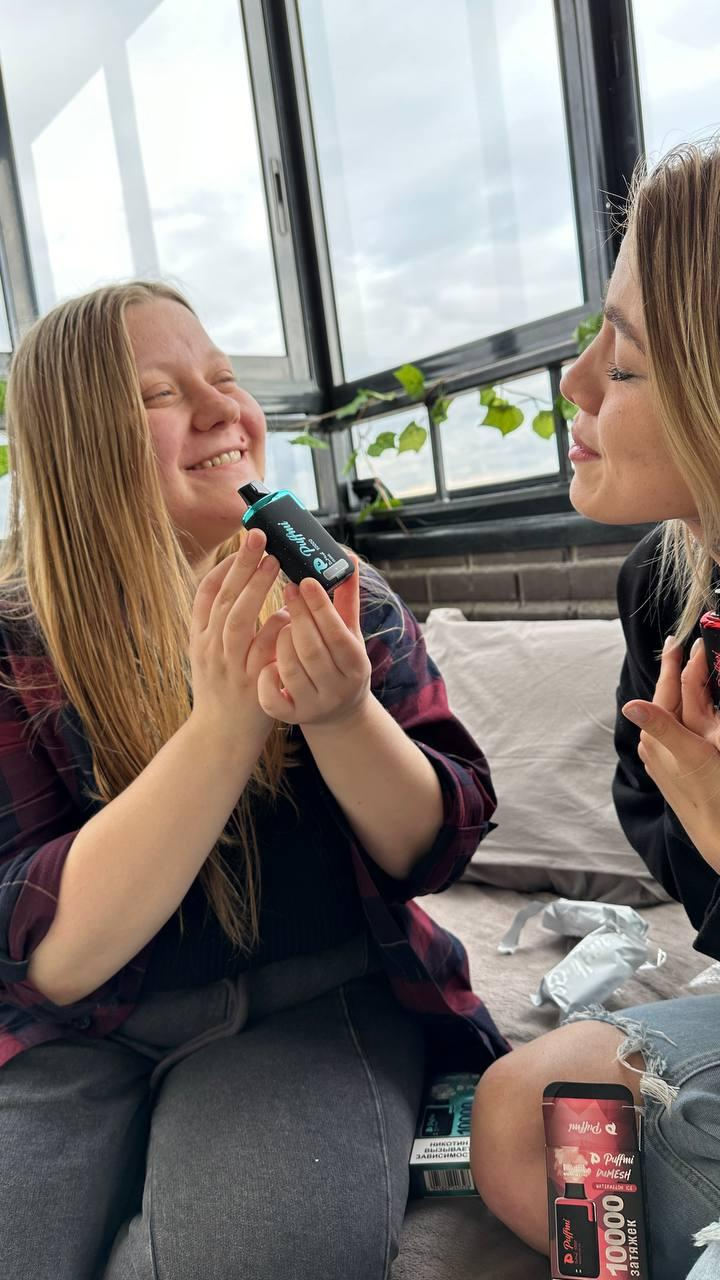Vape: (238, 482, 354, 594)
